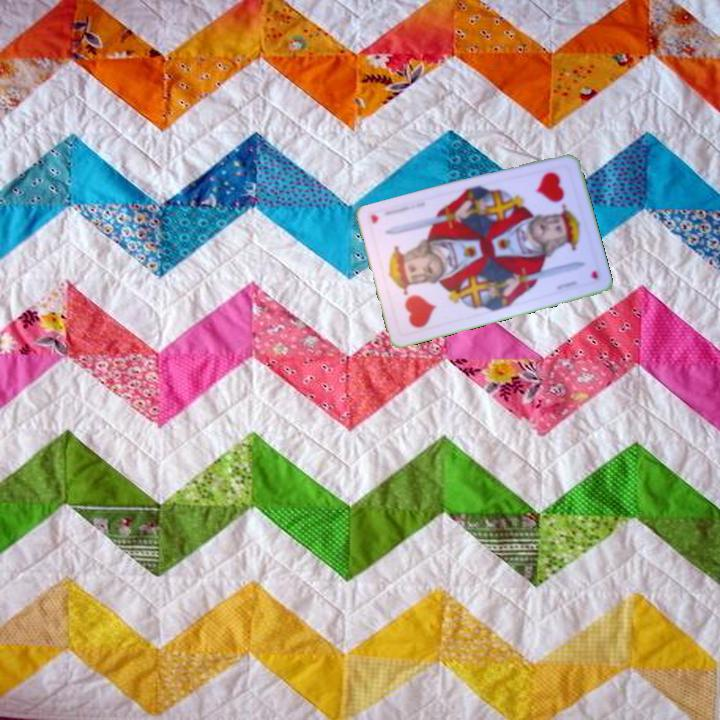h_k.png: (382, 259, 454, 338), (514, 160, 586, 238)
